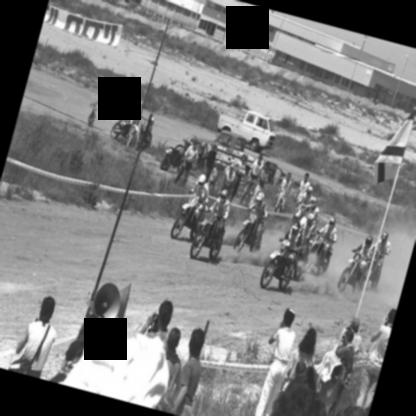handbag: (8, 324, 50, 375)
